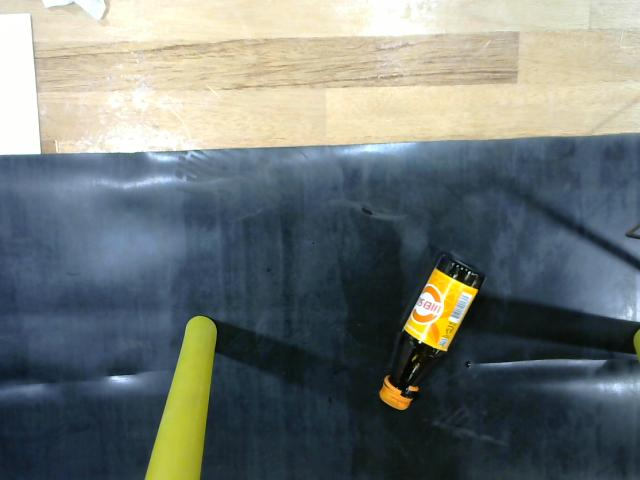glass: (365, 240, 499, 425)
